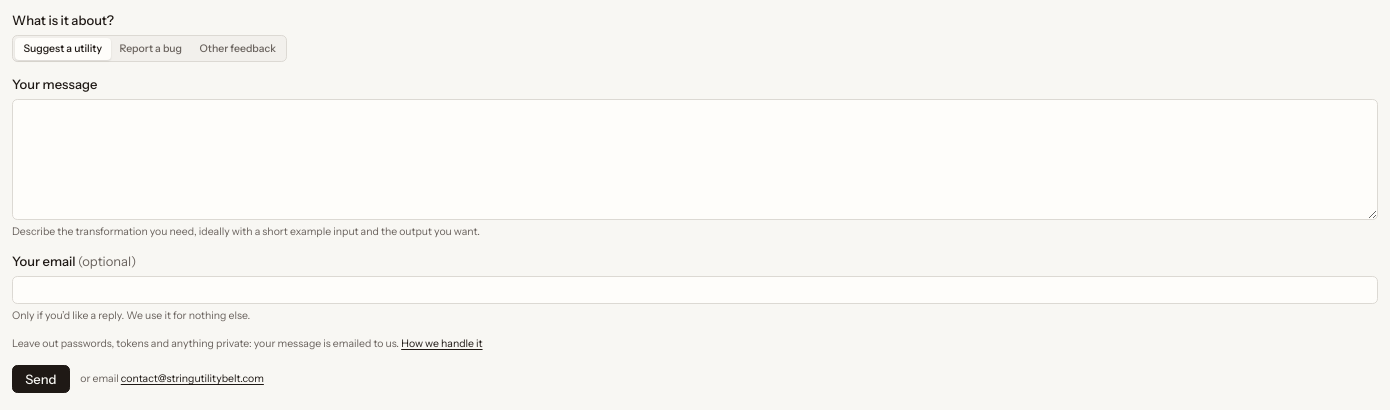
Test: FeedbackForm › sends the chosen kind, the cleaned message, the reply address and the page path, never its fragment
The image size is (1390, 410).
Step 1. Click the button "Report a bug" → point(151, 48), box [111,38,191,60]
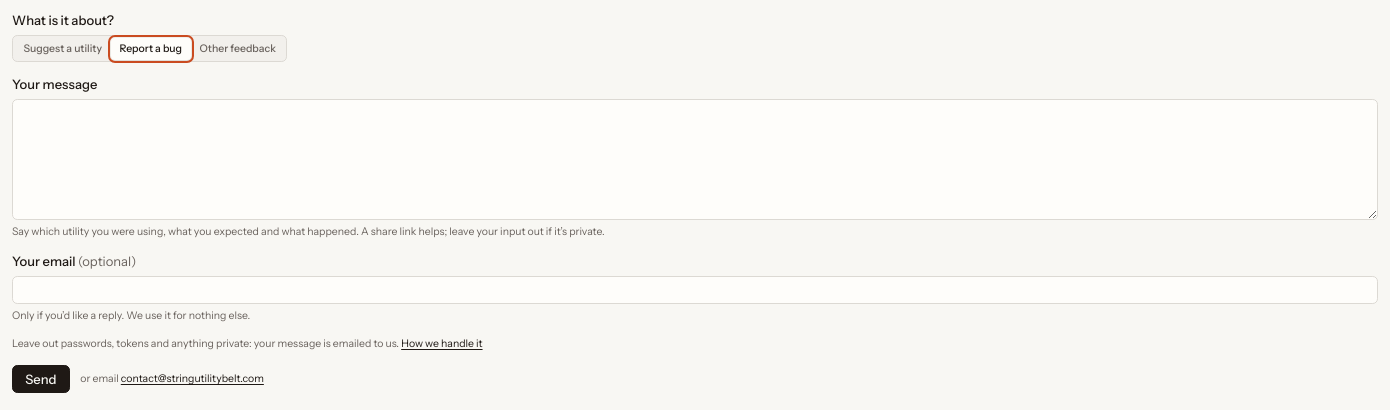
Check: the button "Report a bug" is pressed, box [111,38,191,60]
Step 2. Type "  The hex view freezes on big files.  " into the text box labelled "Your message" → point(695, 160), box [12,99,1378,220]
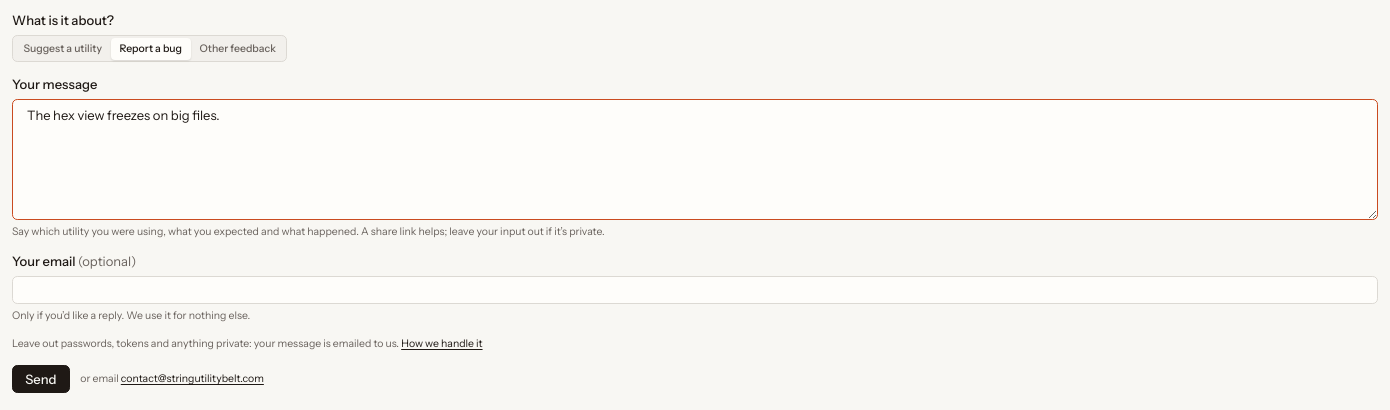
Step 3. Type "ada@example.com" into the field labelled "Your email (optional)" → point(695, 290), box [12,276,1378,304]
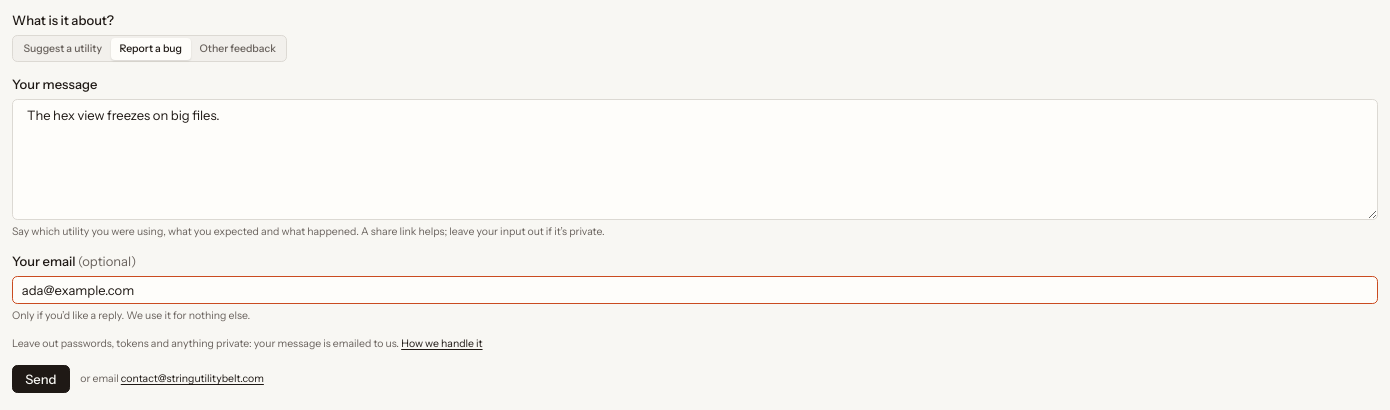
Step 4. Click the button "Send" → point(41, 379), box [12,365,70,393]
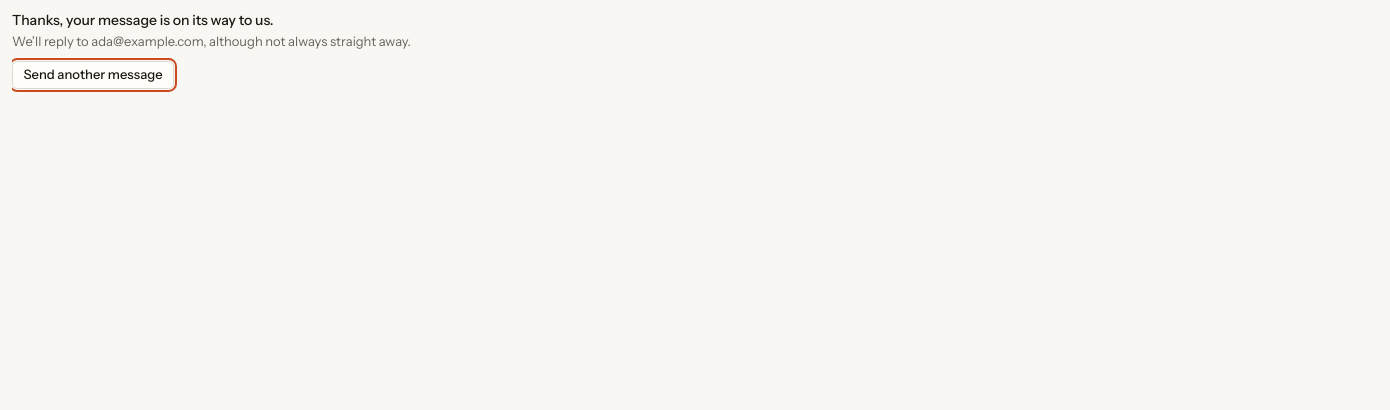
Check: the message shows "We’ll reply to ada@example.com", box [12,33,411,49]
